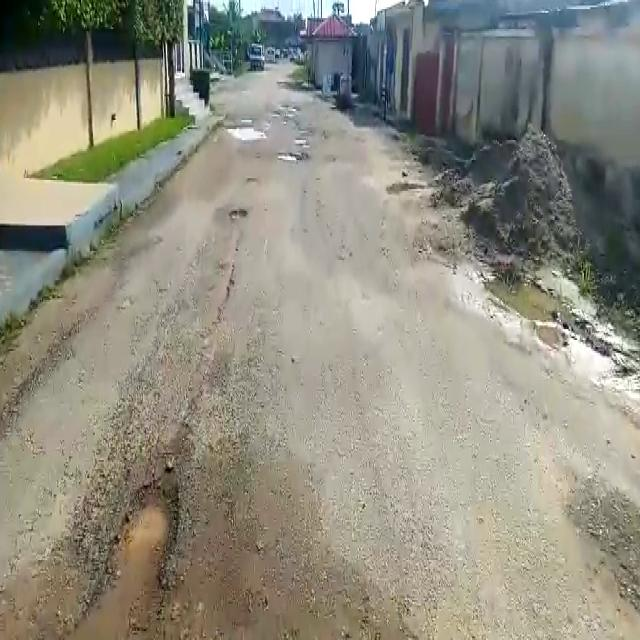Pothole: (68, 479, 180, 640), (224, 124, 267, 142), (278, 150, 304, 162)
